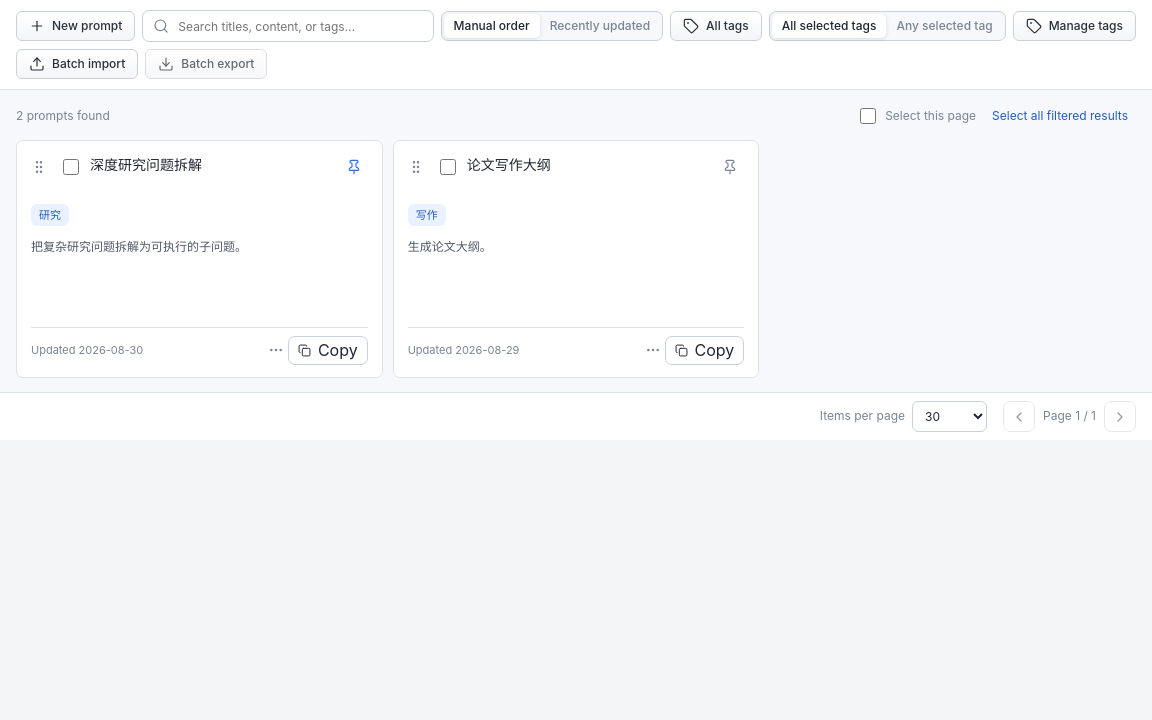
PromptsView › does not let a delayed pin response for A mutate the drawer later opened for B
The width and height of the screenshot is (1152, 720).
Click the element "深度研究问题拆解". click: (199, 259)
box: [16,140,383,378]
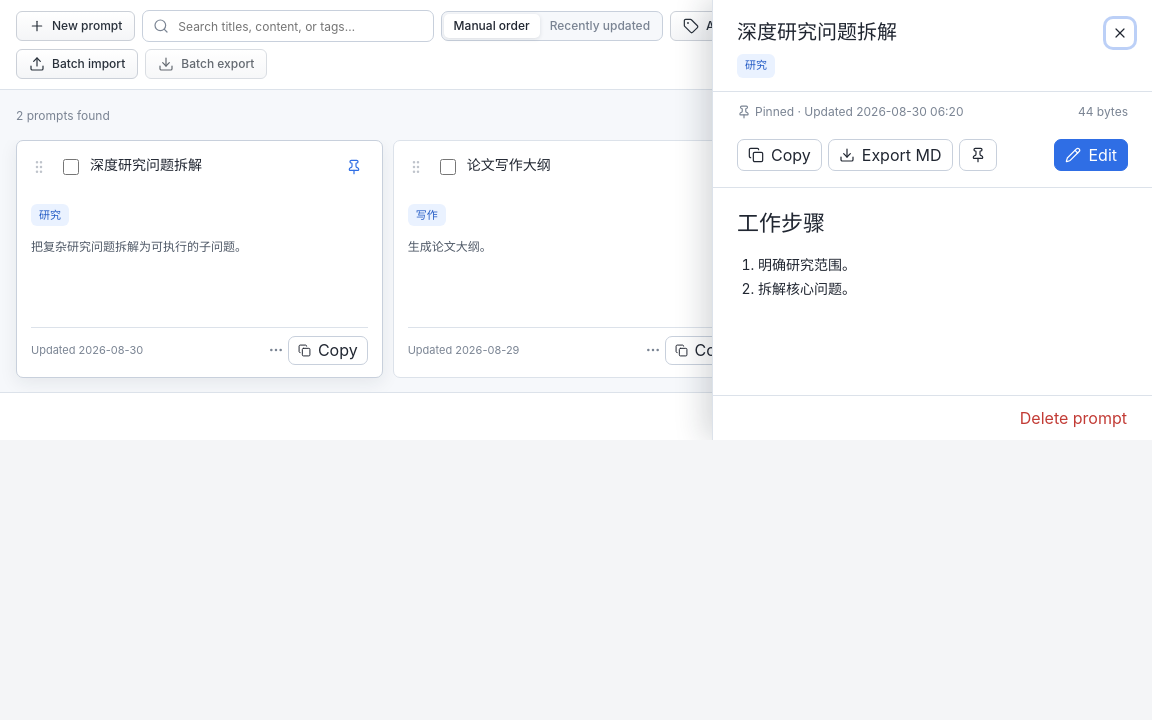
Click the button named "Unpin: 深度研究问题拆解" below "Pinned". click: (978, 155)
box: [958,139,996,171]
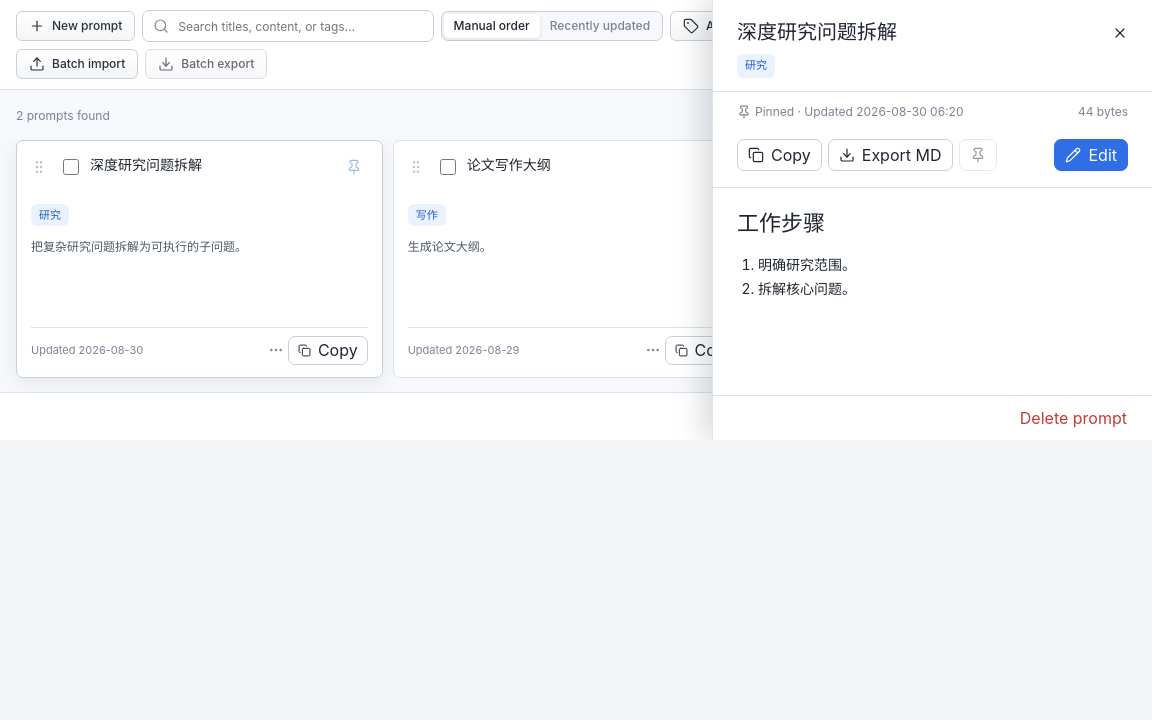
Click the element "论文写作大纲". click: (576, 259)
box: [393,140,759,378]
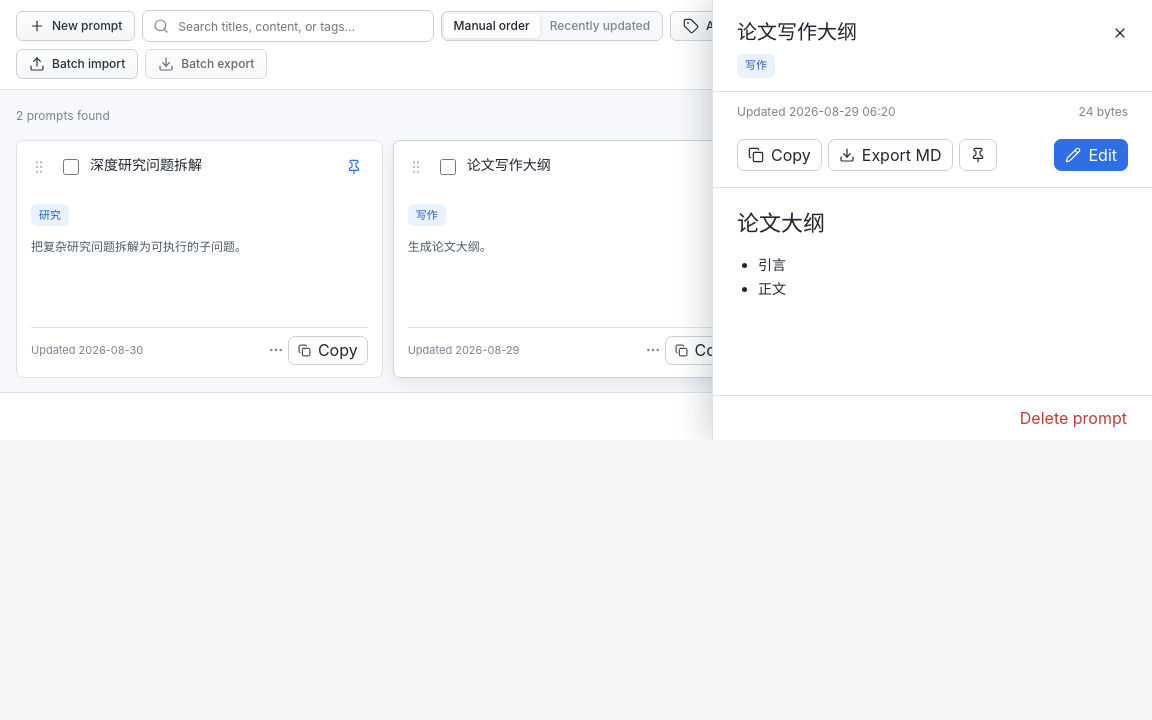
Expected: the 1st heading "论文写作大纲" is shown, [737,19,857,45]
Expected: the text "Pinned" is gone
Click the button "Edit". click: (1091, 155)
box: [1054,139,1128,171]
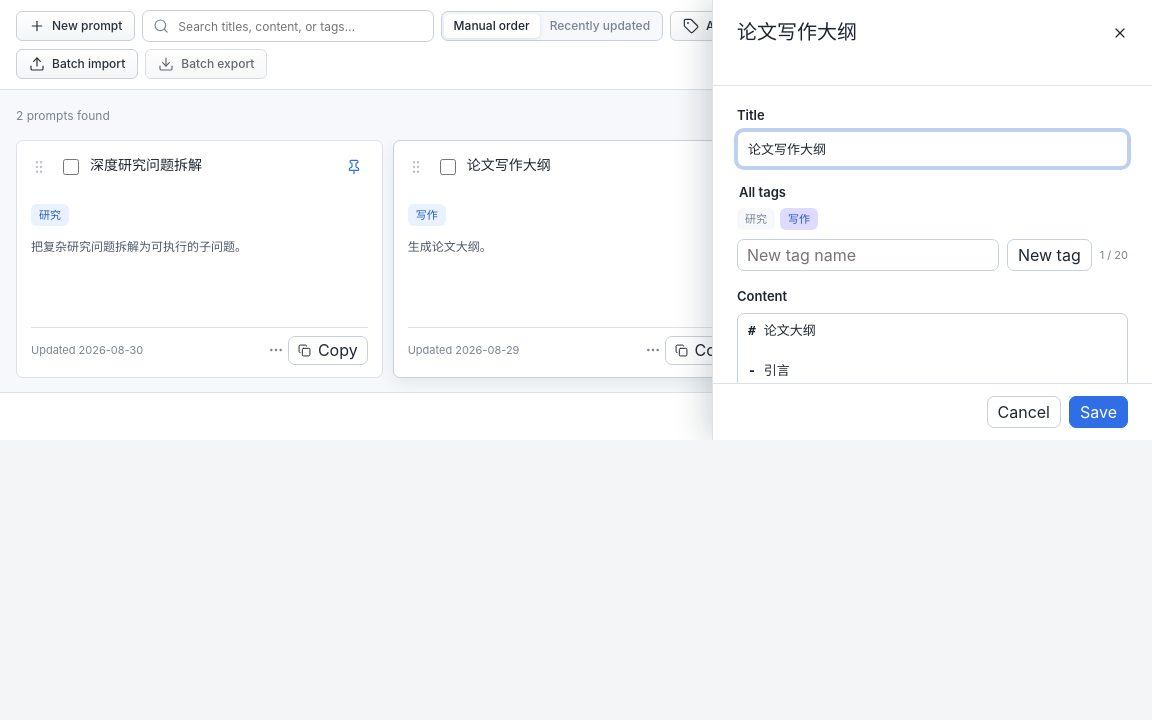
Expected: the field labelled "Title" holds "论文写作大纲", [737,131,1128,167]
